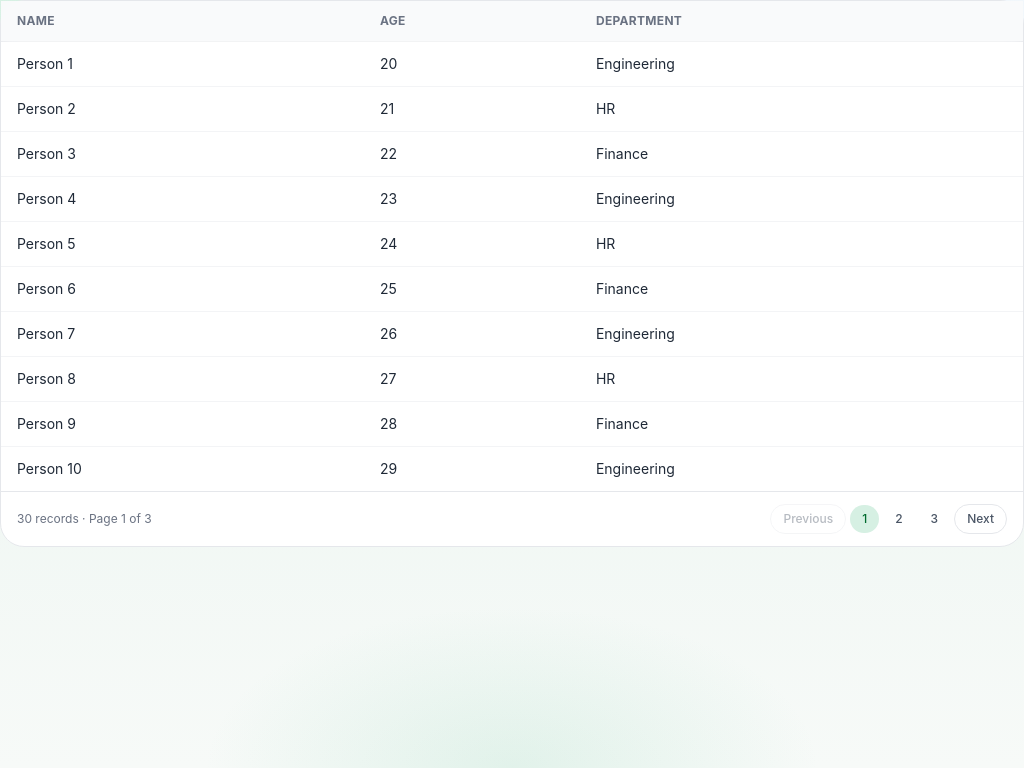
DataTable › disables next button on last page
Click the button "Next": (981, 519) [954,504,1007,534]
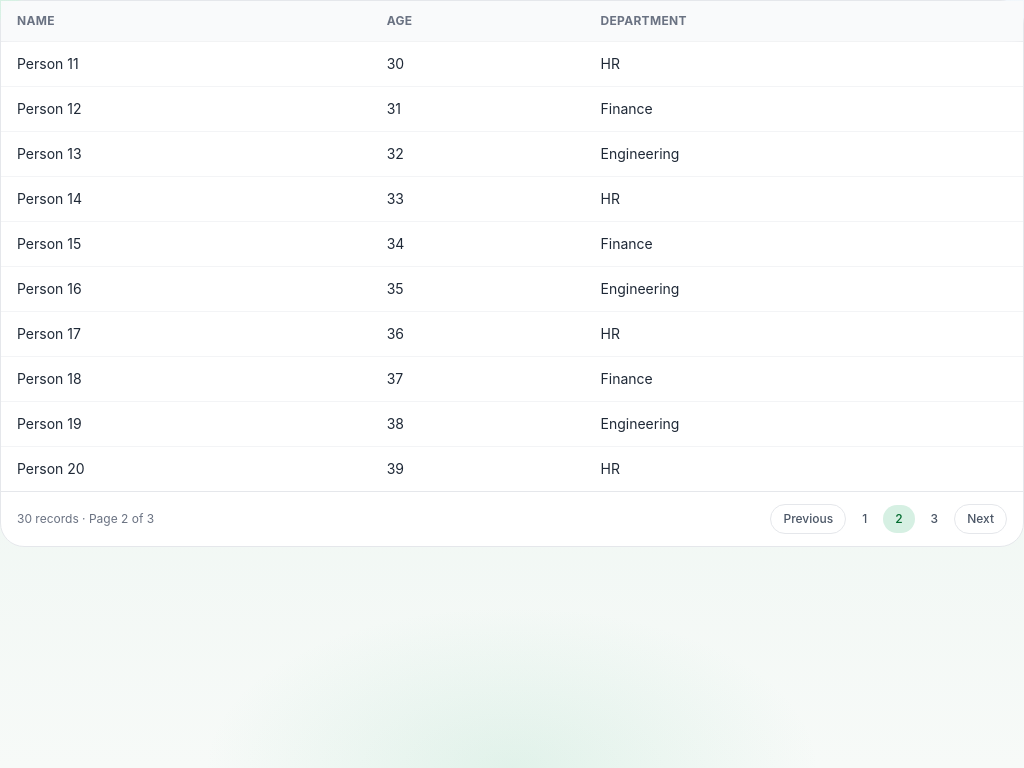
Click the button "Next": (981, 519) [954,504,1007,534]
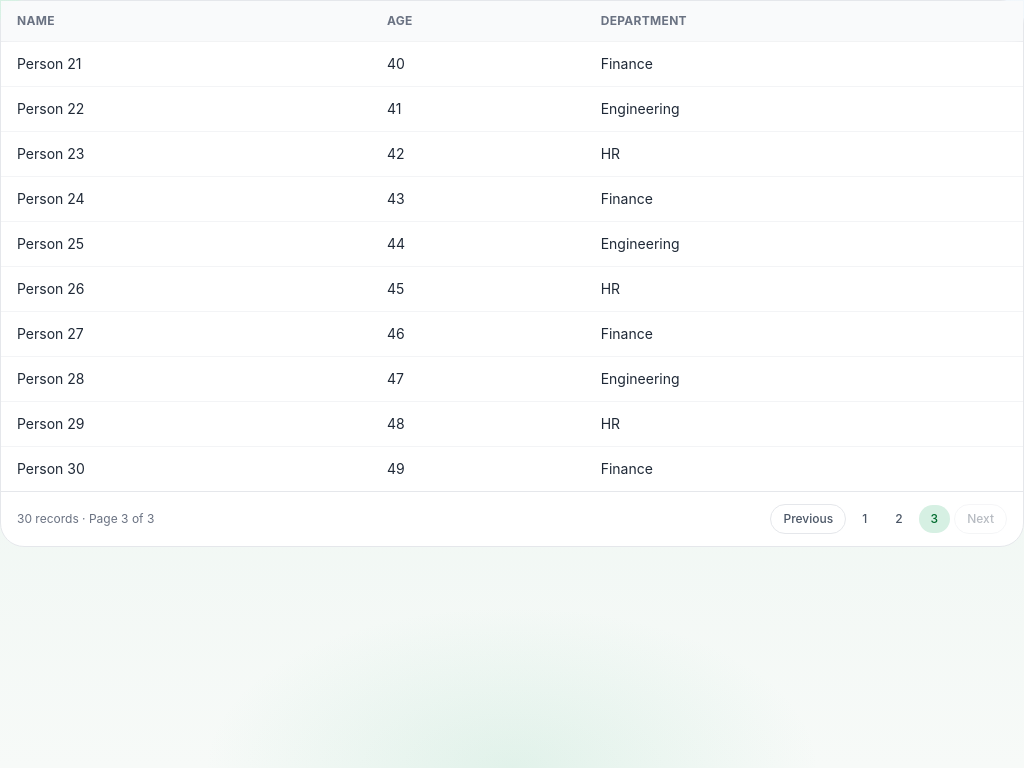
Check: the button "Next" is disabled, box [954,504,1007,534]
